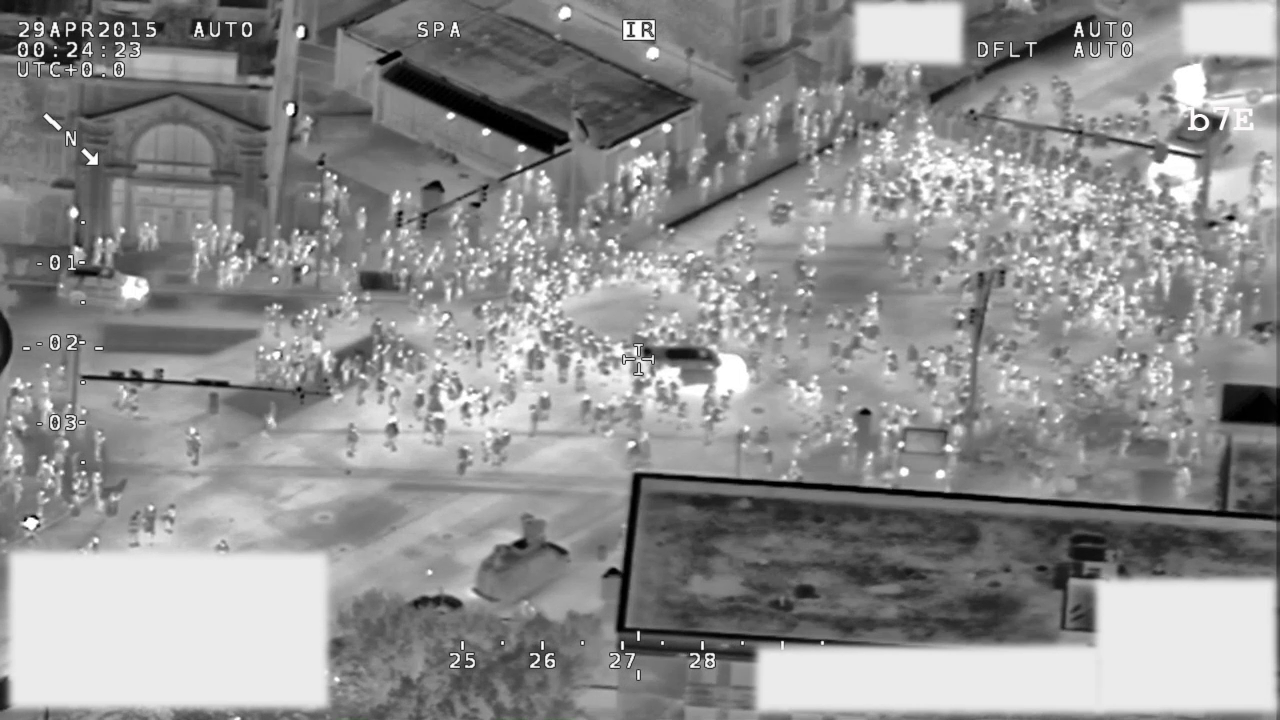vehicle: (466, 508, 584, 608), (1143, 103, 1239, 194), (637, 340, 753, 403), (52, 261, 159, 309)
